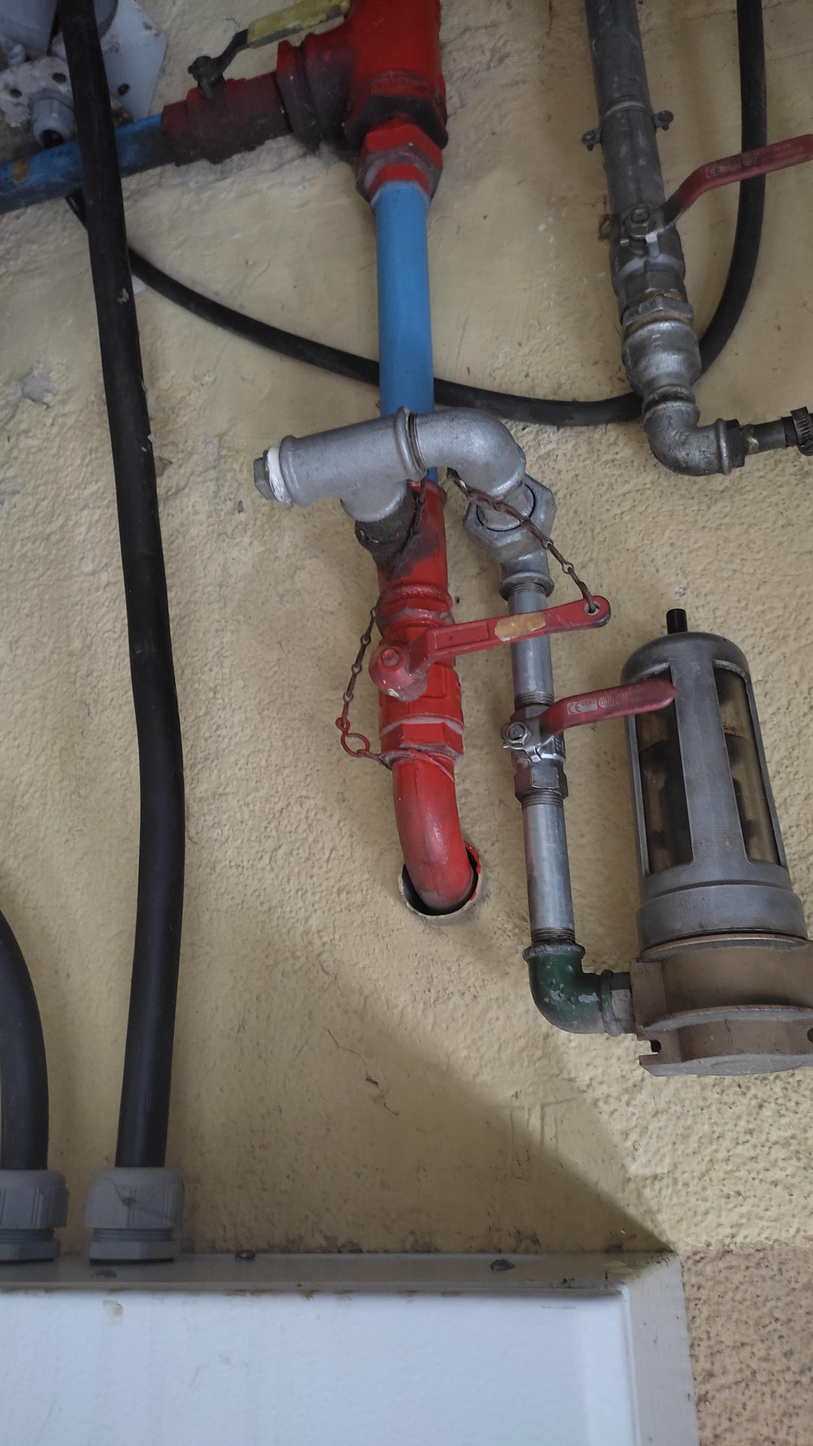closed valve: (612, 111, 813, 345), (352, 596, 611, 712), (493, 678, 689, 793)
opened valve: (149, 0, 367, 193)
